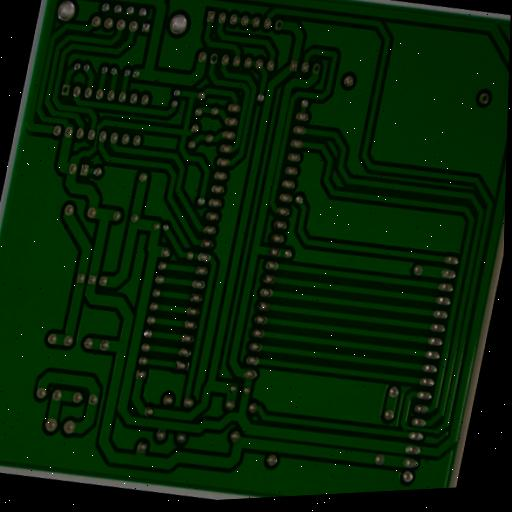missing_hole: (270, 16, 287, 36), (476, 88, 492, 108), (57, 82, 73, 98), (206, 51, 221, 67), (309, 62, 323, 77)
